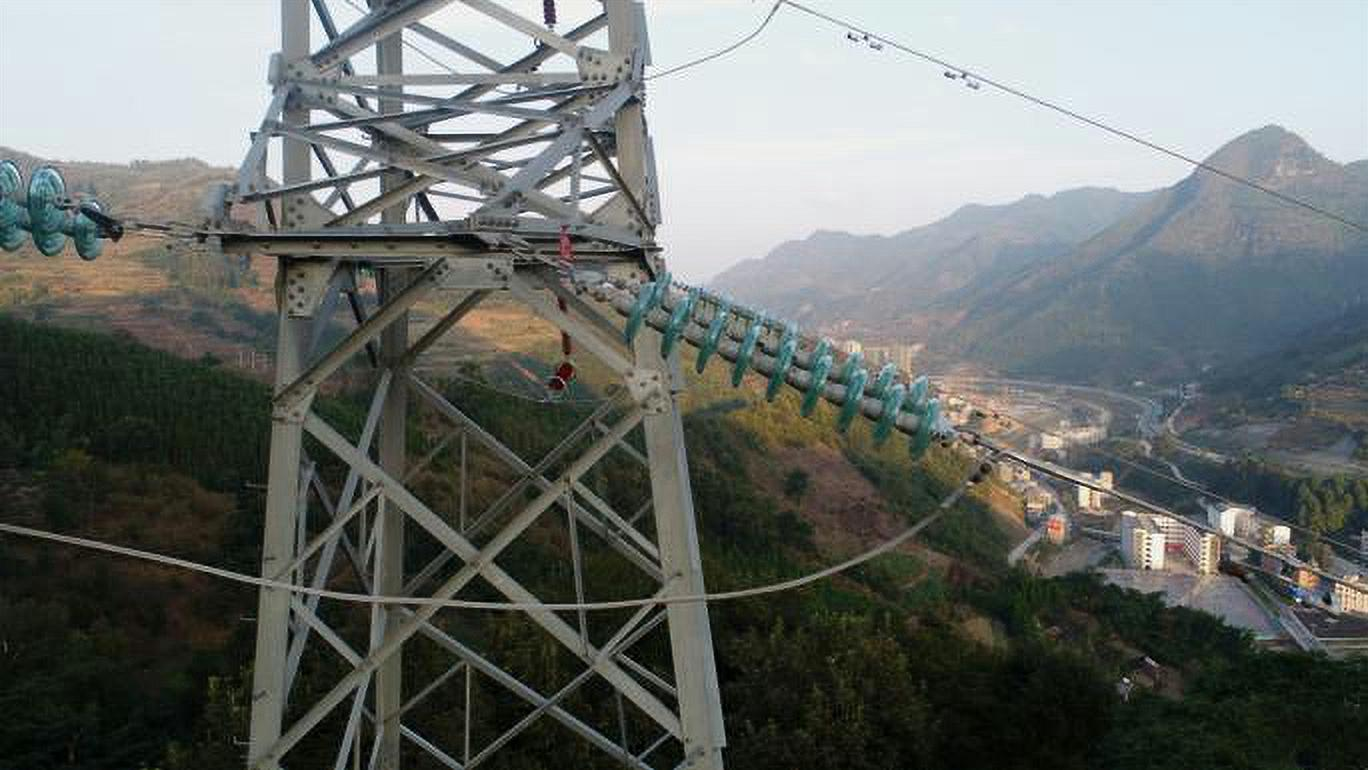insulator: (615, 266, 948, 470), (1, 152, 113, 270)
